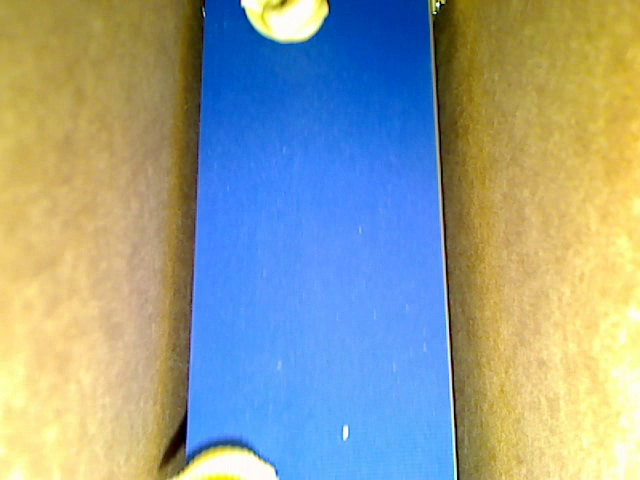shell: (166, 444, 280, 479)
tortellini: (239, 1, 329, 46)
